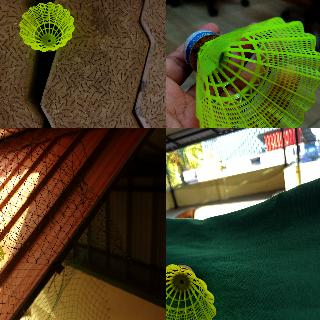shuttlecock: (182, 12, 319, 127), (166, 264, 217, 319), (20, 1, 74, 51)
